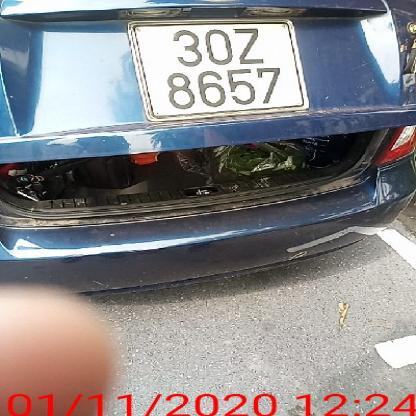biensoxe: (124, 20, 310, 119)
